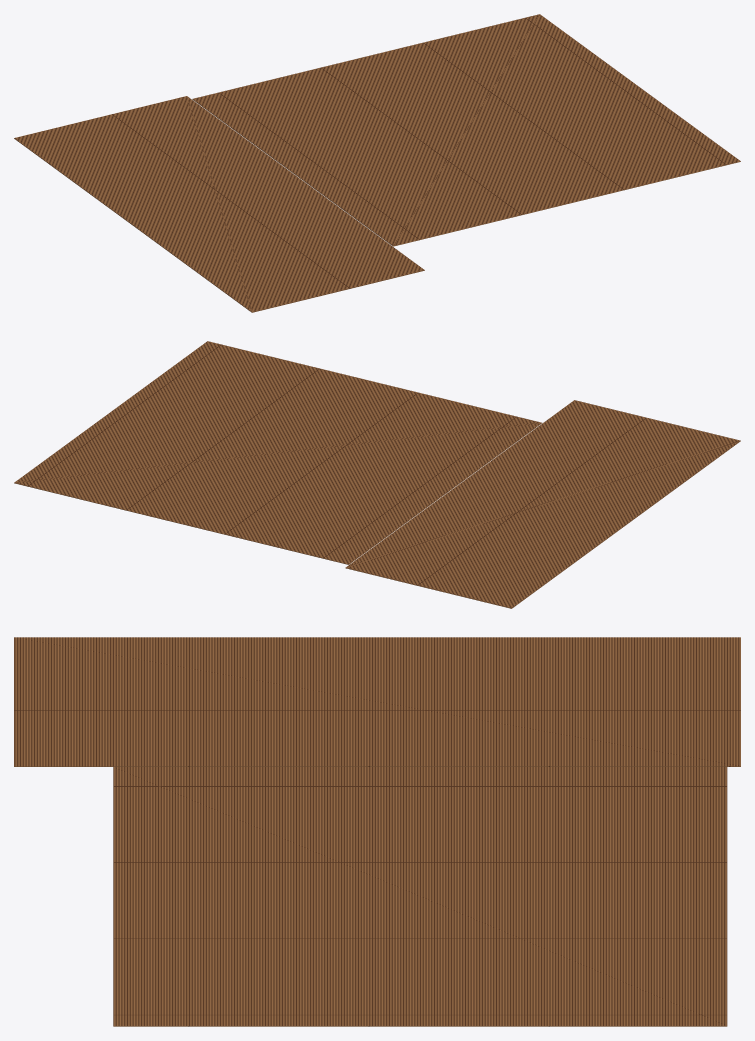
File: Celling_L2_m5.obj
3 views of the same model, one above another, from view 1: azimuth 30°, elevation 25°; view 2: azimuth 150°, elevation 25°; view 3: azimuth 270°, elevation 25° (orthographic). The views are drawn at different scales.
Visible parts, largest first — view 1: Celiling; view 2: Celiling; view 3: Celiling.
Part boxes in pixels (x1,y1,x2,y2): Celiling: (14,14,740,312); Celiling: (14,341,740,608); Celiling: (14,637,740,1026).
Bounding box in the file's own units: 217 × 0.2 × 172.
